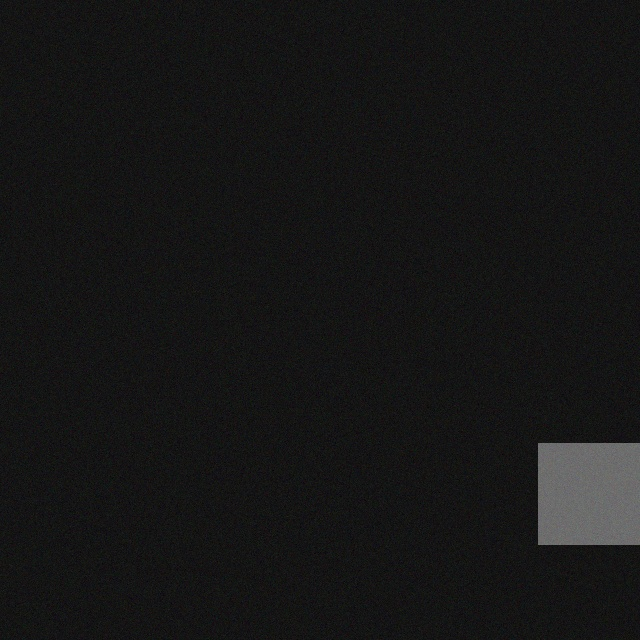square: (532, 452, 633, 553)
